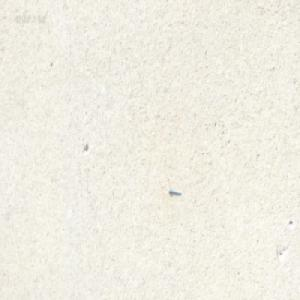Nail: (168, 187, 181, 195)
